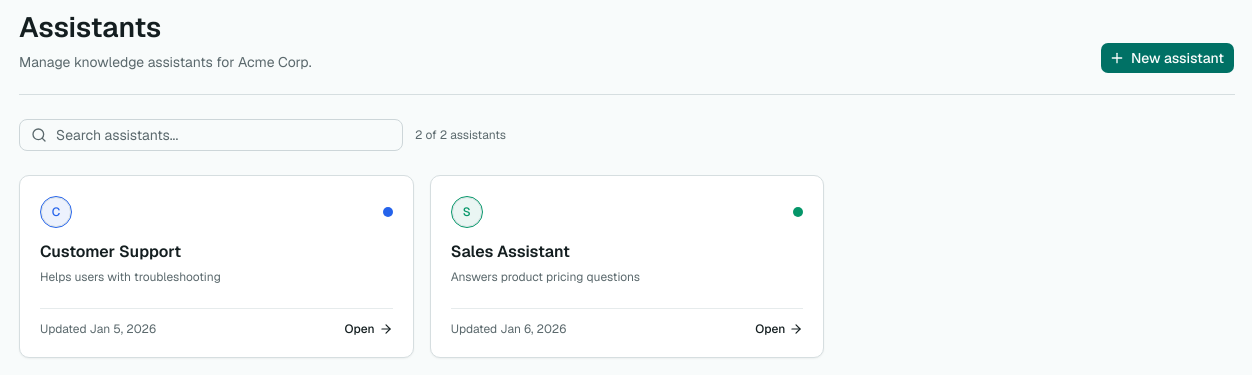
it: AssistantsPage › renders assistant cards and filters by search query
Check: the heading "Customer Support" is shown, box top-left (40, 241), bottom-right (181, 262)
Check: the heading "Sales Assistant" is shown, box top-left (451, 241), bottom-right (570, 262)
In the field labelled "Search assistants": x=211, y=135 top-left (19, 119), bottom-right (403, 151), type "Sales"
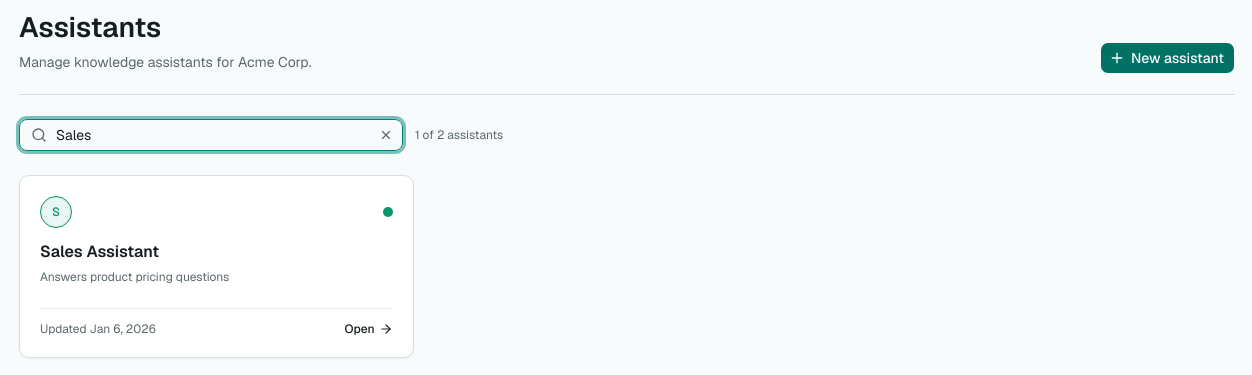
Check: the heading "Sales Assistant" is shown, box top-left (40, 241), bottom-right (159, 262)
Check: the link "Customer Support" is gone
Check: the text "1 of 2 assistants" is shown, box top-left (415, 127), bottom-right (503, 143)
